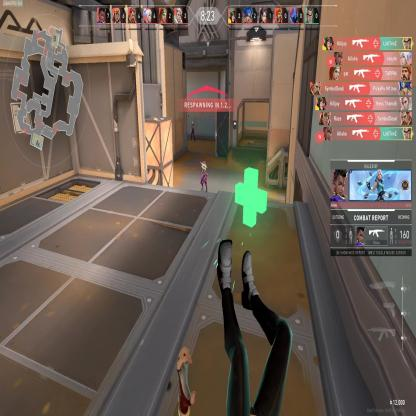enemy: (199, 156, 208, 192), (190, 120, 195, 142)
